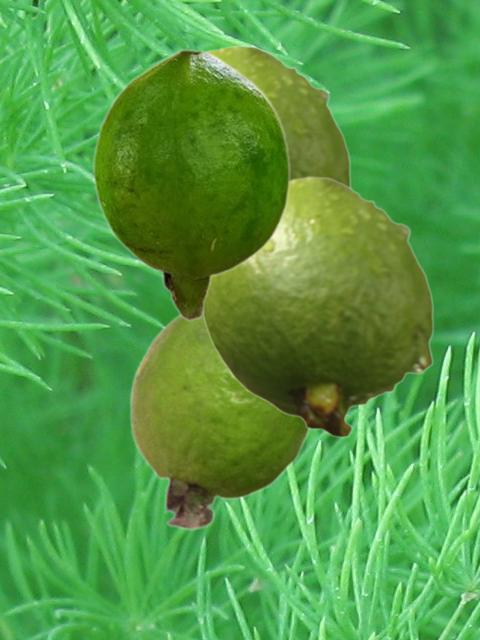guava: (202, 175, 433, 437), (92, 48, 290, 321), (129, 314, 310, 530), (207, 44, 350, 185)
